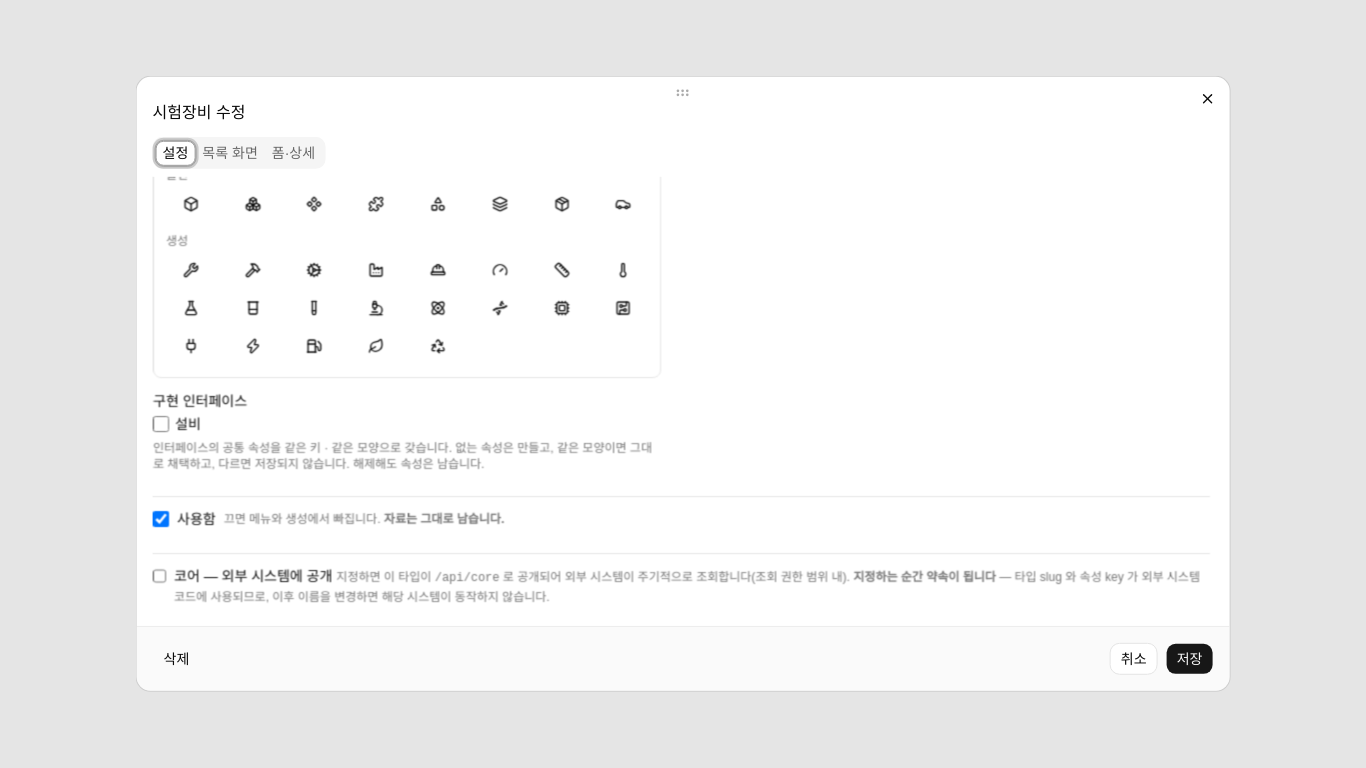
Scenario: 타입 창의 구현 인터페이스 › 모양이 안 맞으면 서버가 적은 차이가 그대로 보이고 저장이 막힌다
(page scrolled)
Click the checkbox labelled "설비" at x=161, y=424, box [153,416,169,432]
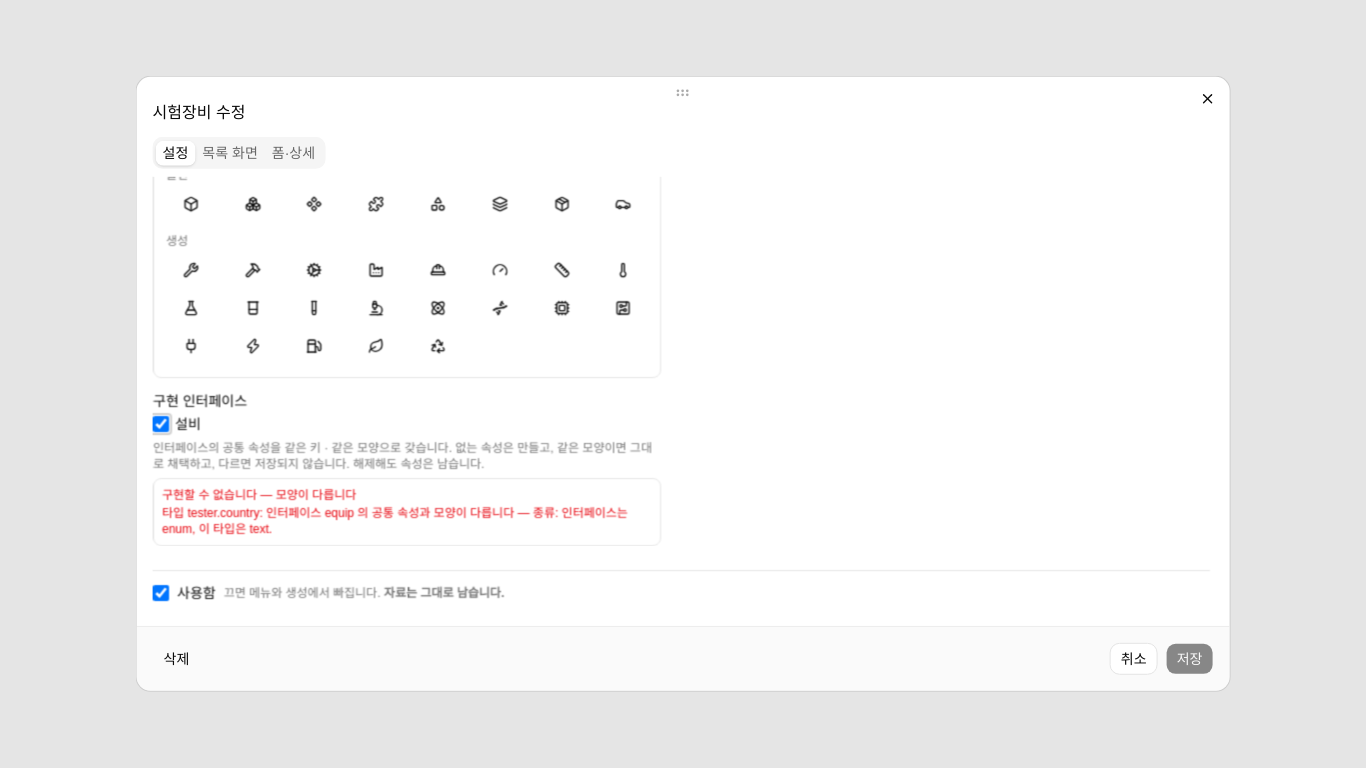
Expected: the text "타입 tester.country: 인터페이스 equip 의 공통 속성과 모양이 다릅니다 — 종류: 인터페이스는 enum, 이 타입은 text." is shown, [162,505,652,537]
Expected: the button "저장" is disabled, [1166,643,1213,675]
